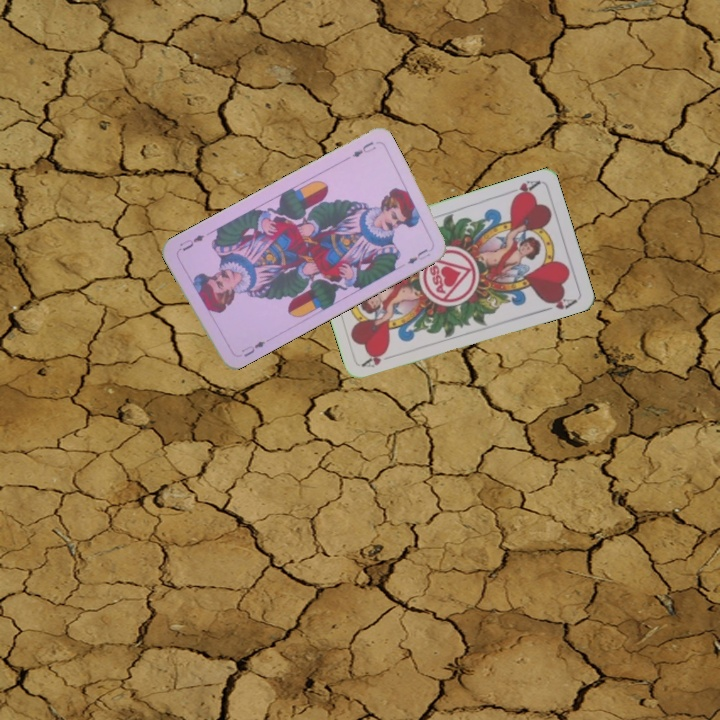EU: (237, 337, 268, 360), (348, 137, 379, 160)
HA: (503, 176, 542, 202), (359, 348, 399, 370)
